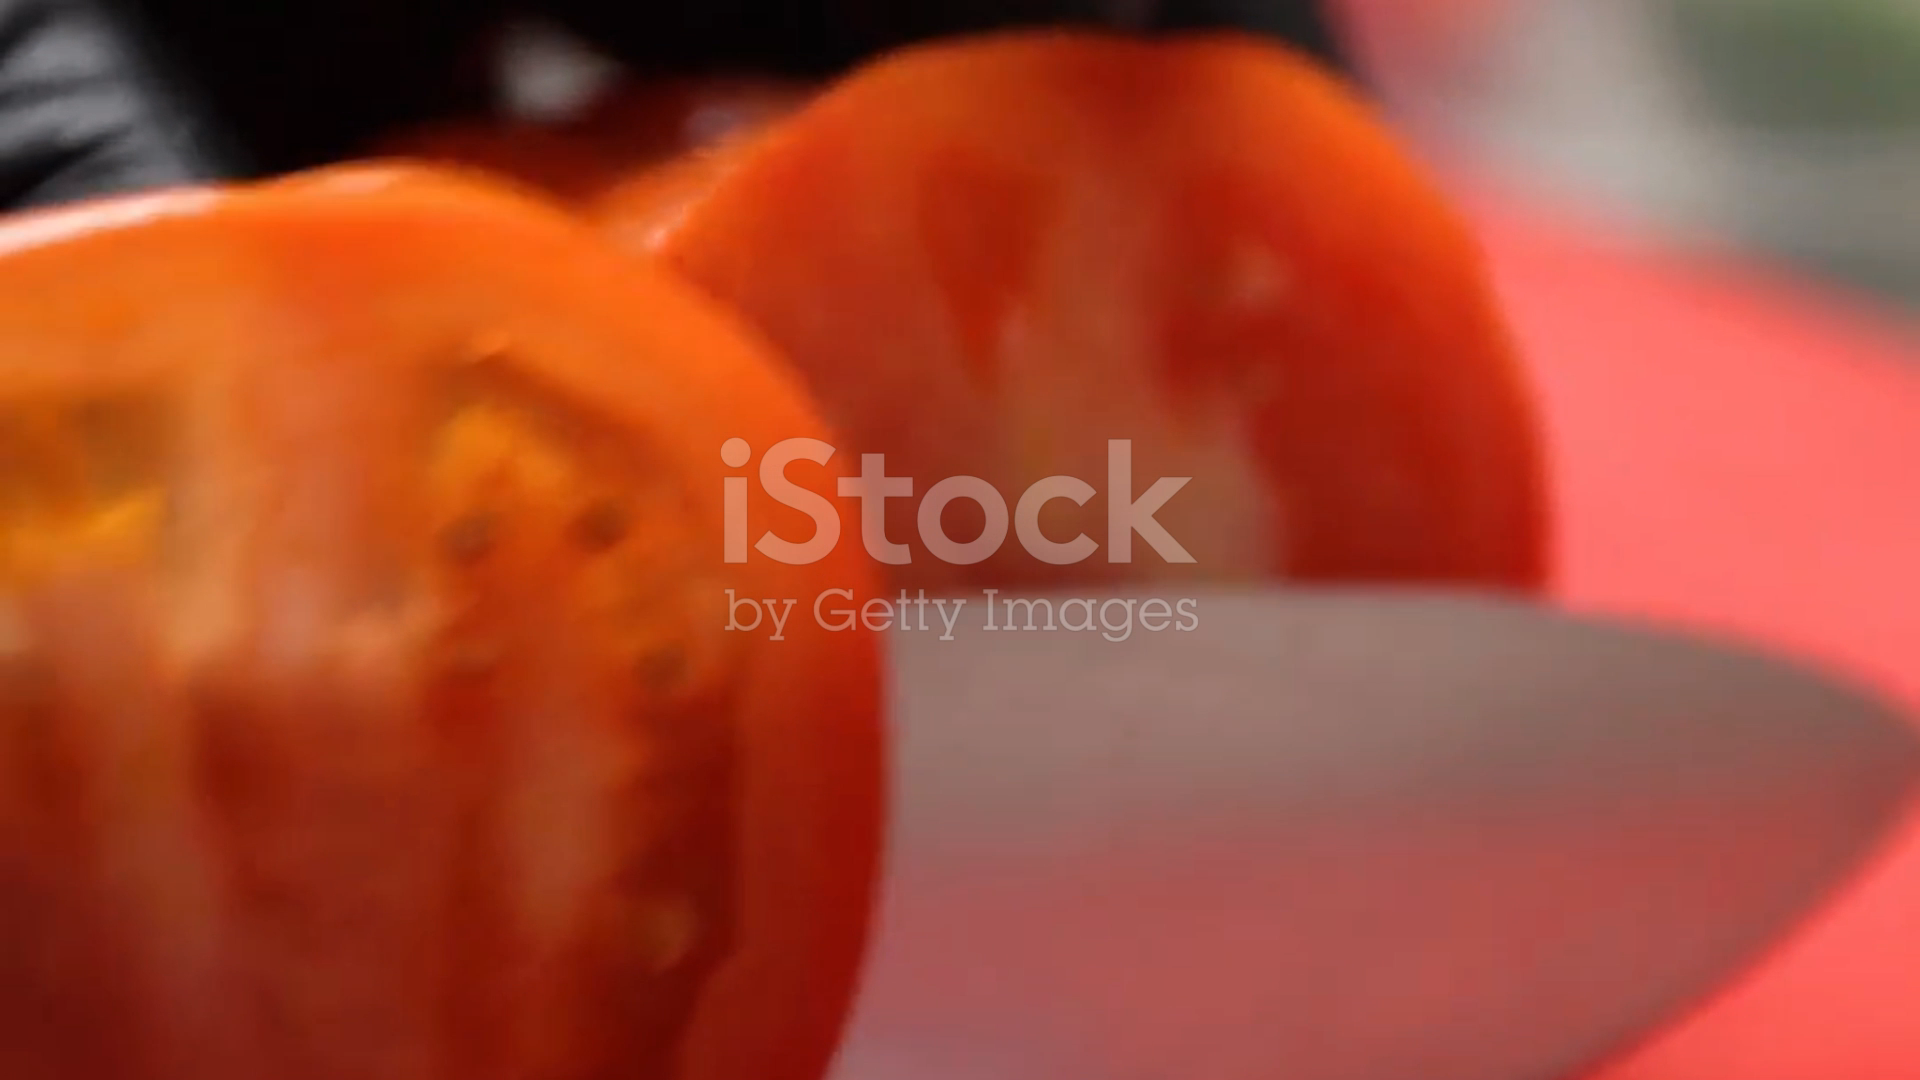cortante: (744, 593, 1920, 1080)
